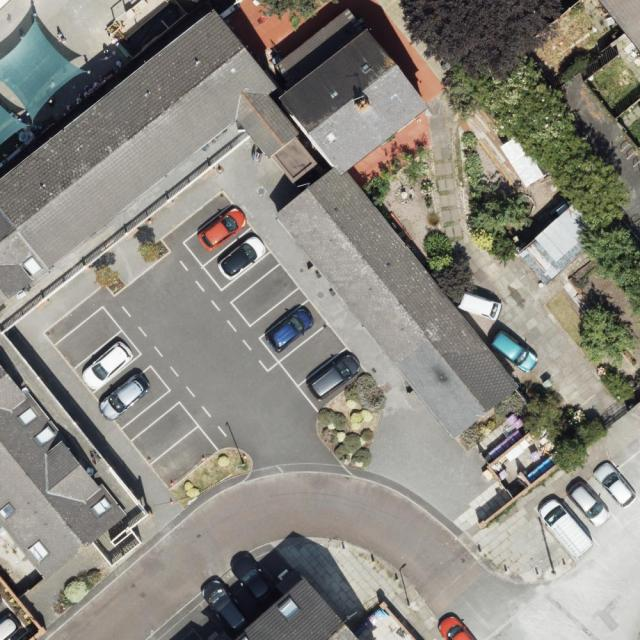roof: (274, 8, 518, 441), (0, 9, 312, 314), (0, 355, 129, 579), (235, 575, 360, 640), (600, 0, 640, 56)
skylight: (31, 423, 56, 449), (26, 538, 51, 562), (278, 597, 304, 620), (14, 406, 37, 429), (92, 497, 113, 518), (21, 255, 43, 275), (1, 502, 14, 517), (359, 62, 372, 72), (326, 131, 336, 142)
